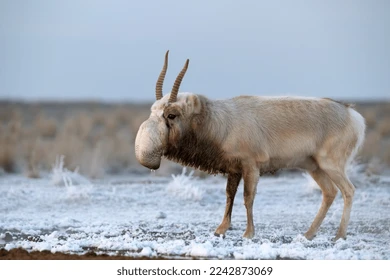saiga: (133, 49, 367, 249)
